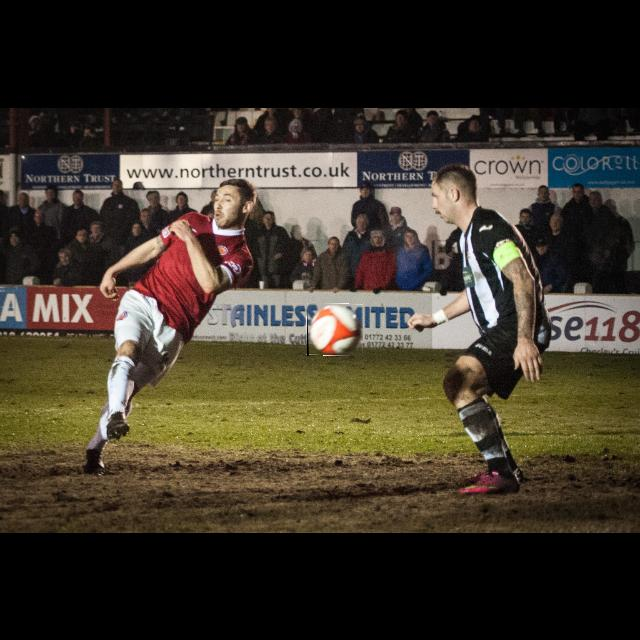Football: (307, 304, 363, 356)
